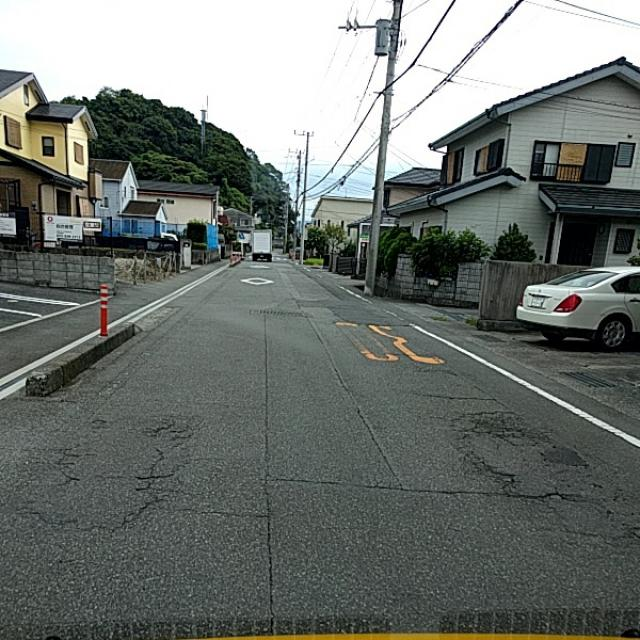pothole: (458, 408, 598, 526), (80, 397, 197, 509)
